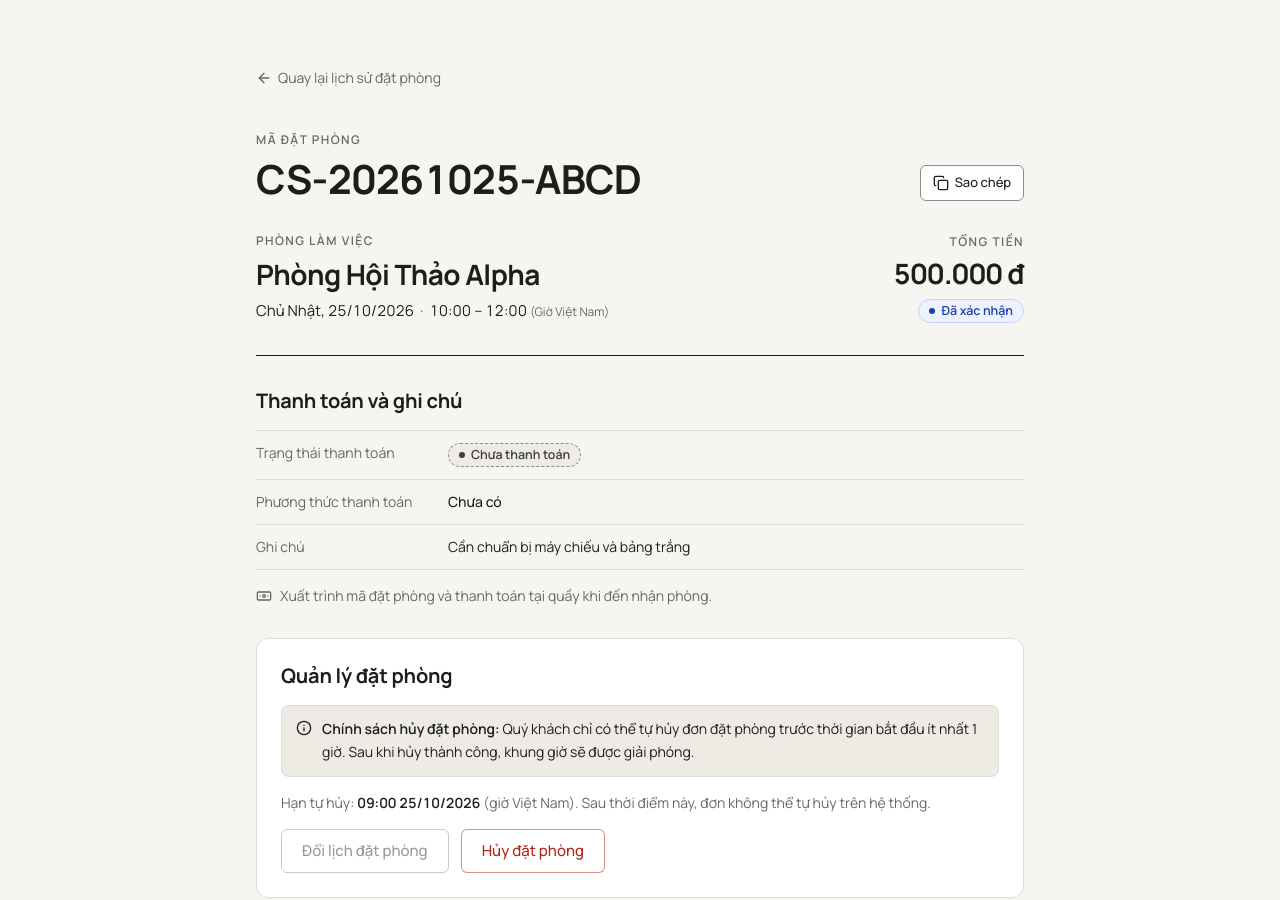
Test case: BookingDetailPage › Customer Booking Cancellation (CWB-26) › cancels booking successfully, updates badge to "Đã hủy", and displays success banner (AC1)
Click the button with test id "cancel-booking-init-btn". click: (533, 851)
box: [461,829,605,873]
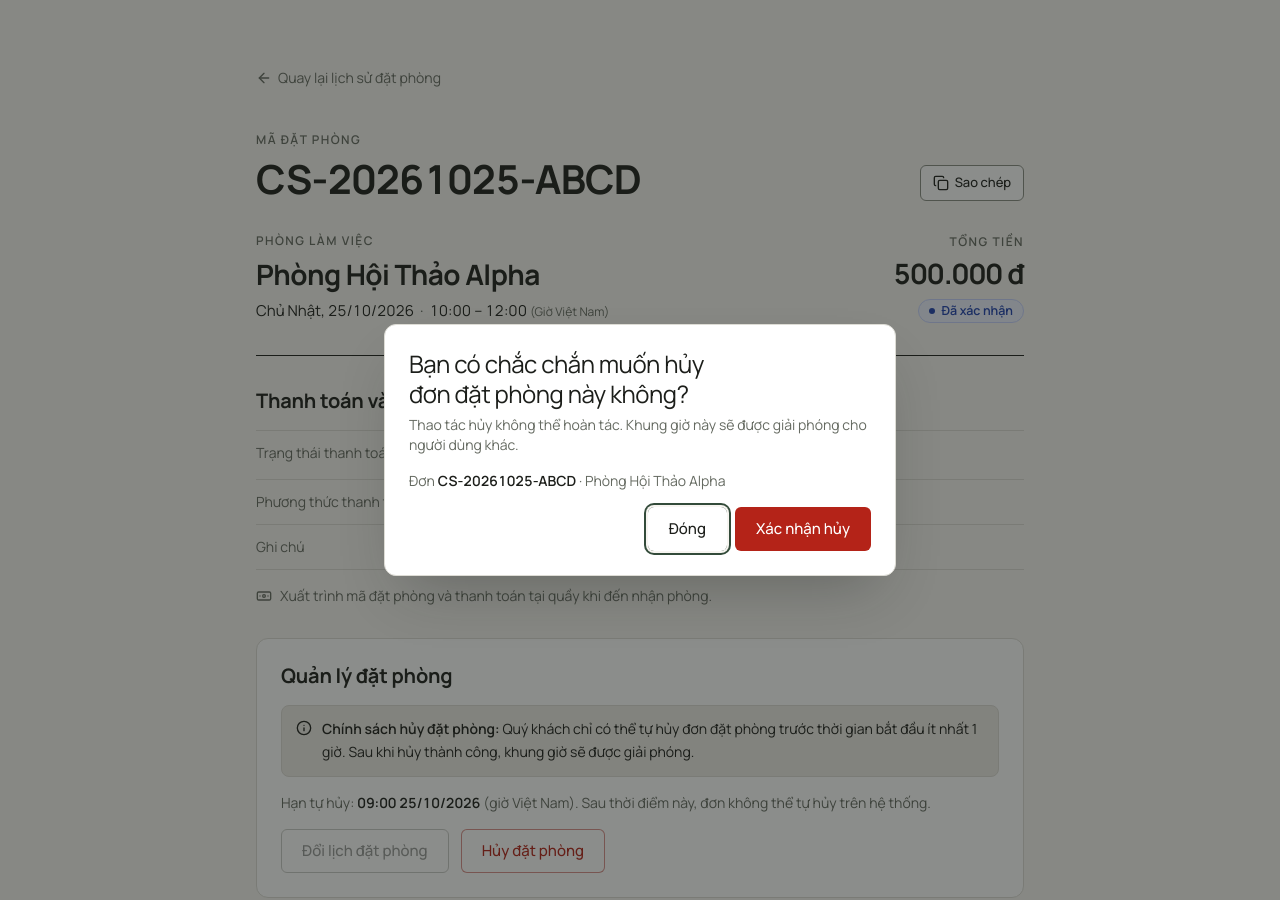
Click the button with test id "confirm-cancel-btn". click: (803, 529)
box: [735,507,871,551]
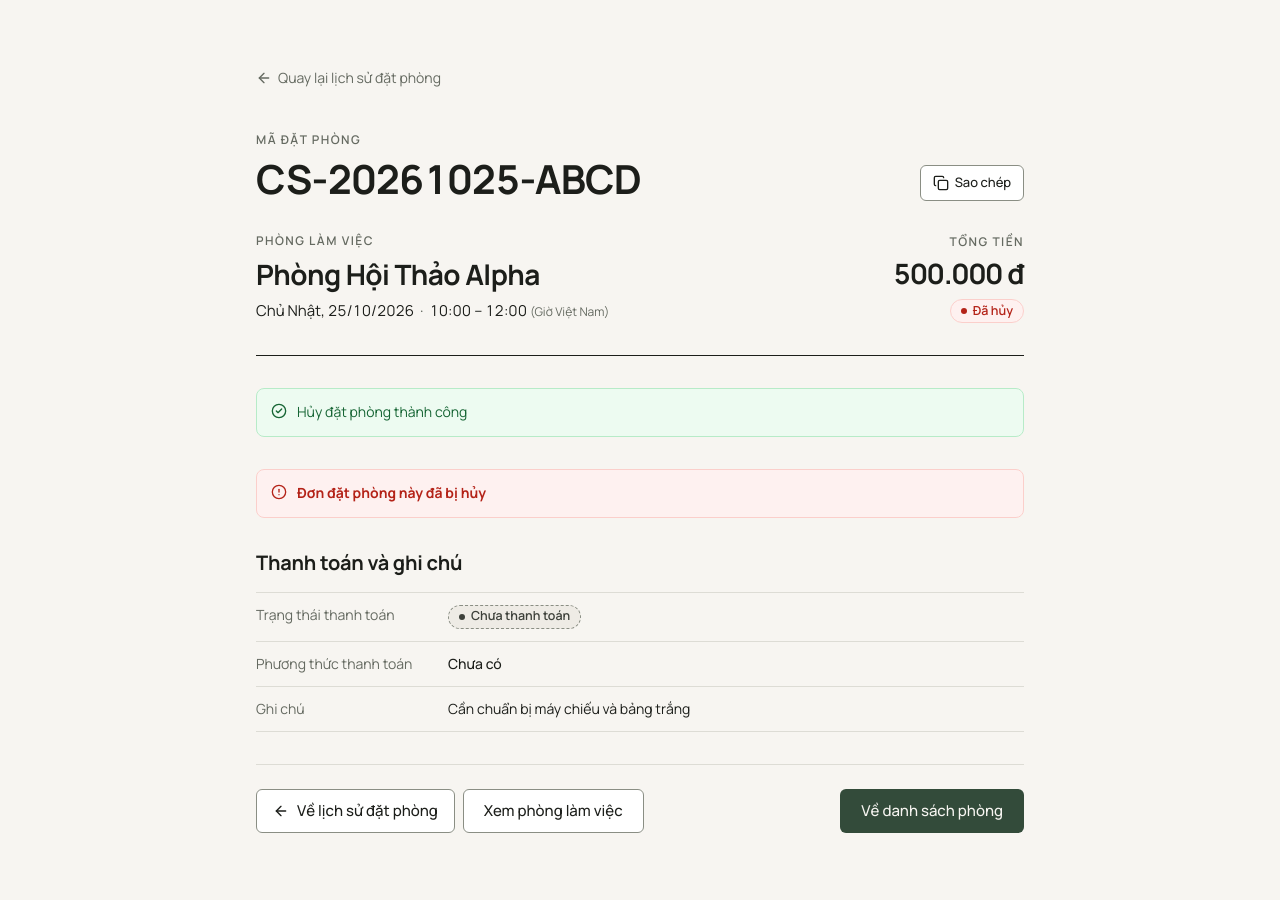
expect the message "Hủy đặt phòng thành công" is shown: met, box [256,388,1024,437]
expect the message with test id "cancel-success-banner" reads "Hủy đặt phòng thành công": met, box [297,402,467,421]
expect the element with test id "booking-status-badge" reads "Đã hủy": met, box [973,302,1013,319]
